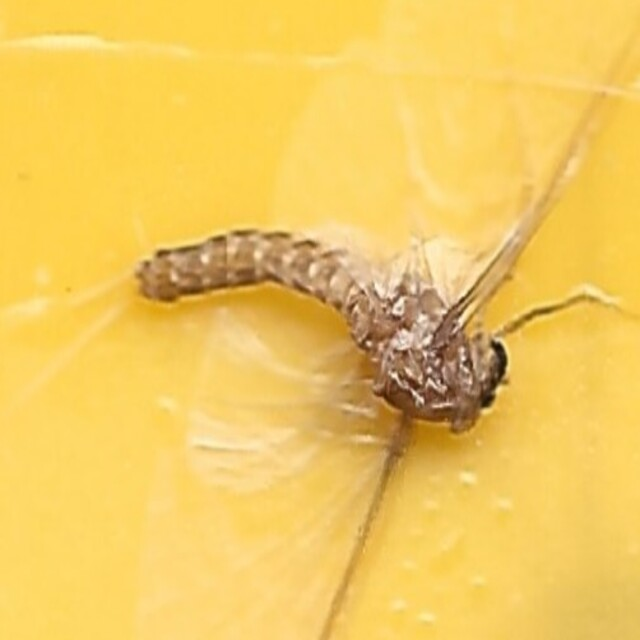Ephemeroptera: (127, 213, 513, 427)
